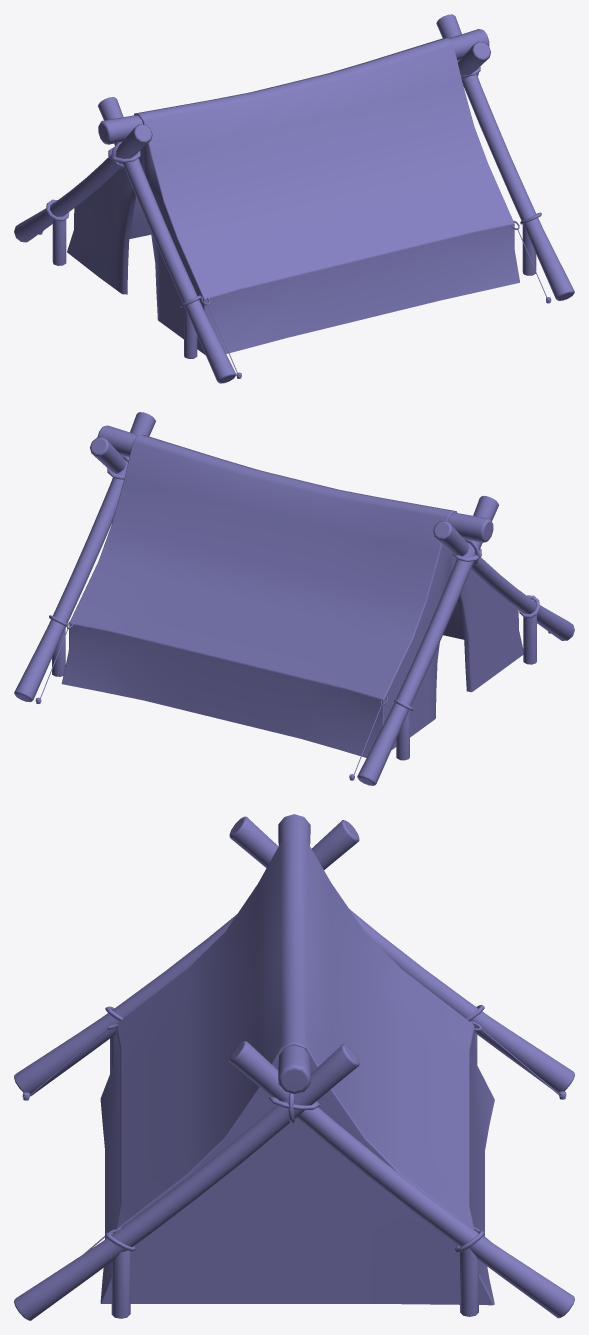
The model's file is SM_Tent_04_Unity.fbx.
3 views of the same model, one above another, from view 1: azimuth 30°, elevation 25°; view 2: azimuth 150°, elevation 25°; view 3: azimuth 270°, elevation 25° (orthographic). The views are drawn at different scales.
Parts seen in each view (by area): view 1: SM_Tent04_LOD0; view 2: SM_Tent04_LOD0; view 3: SM_Tent04_LOD0.
Part boxes in pixels (box(x1,y1,x2,y2)): SM_Tent04_LOD0: box(14, 14, 574, 383); SM_Tent04_LOD0: box(14, 412, 574, 785); SM_Tent04_LOD0: box(14, 814, 574, 1320).
Size of what is drawn, in the model's own units: 378 by 191 by 355.
